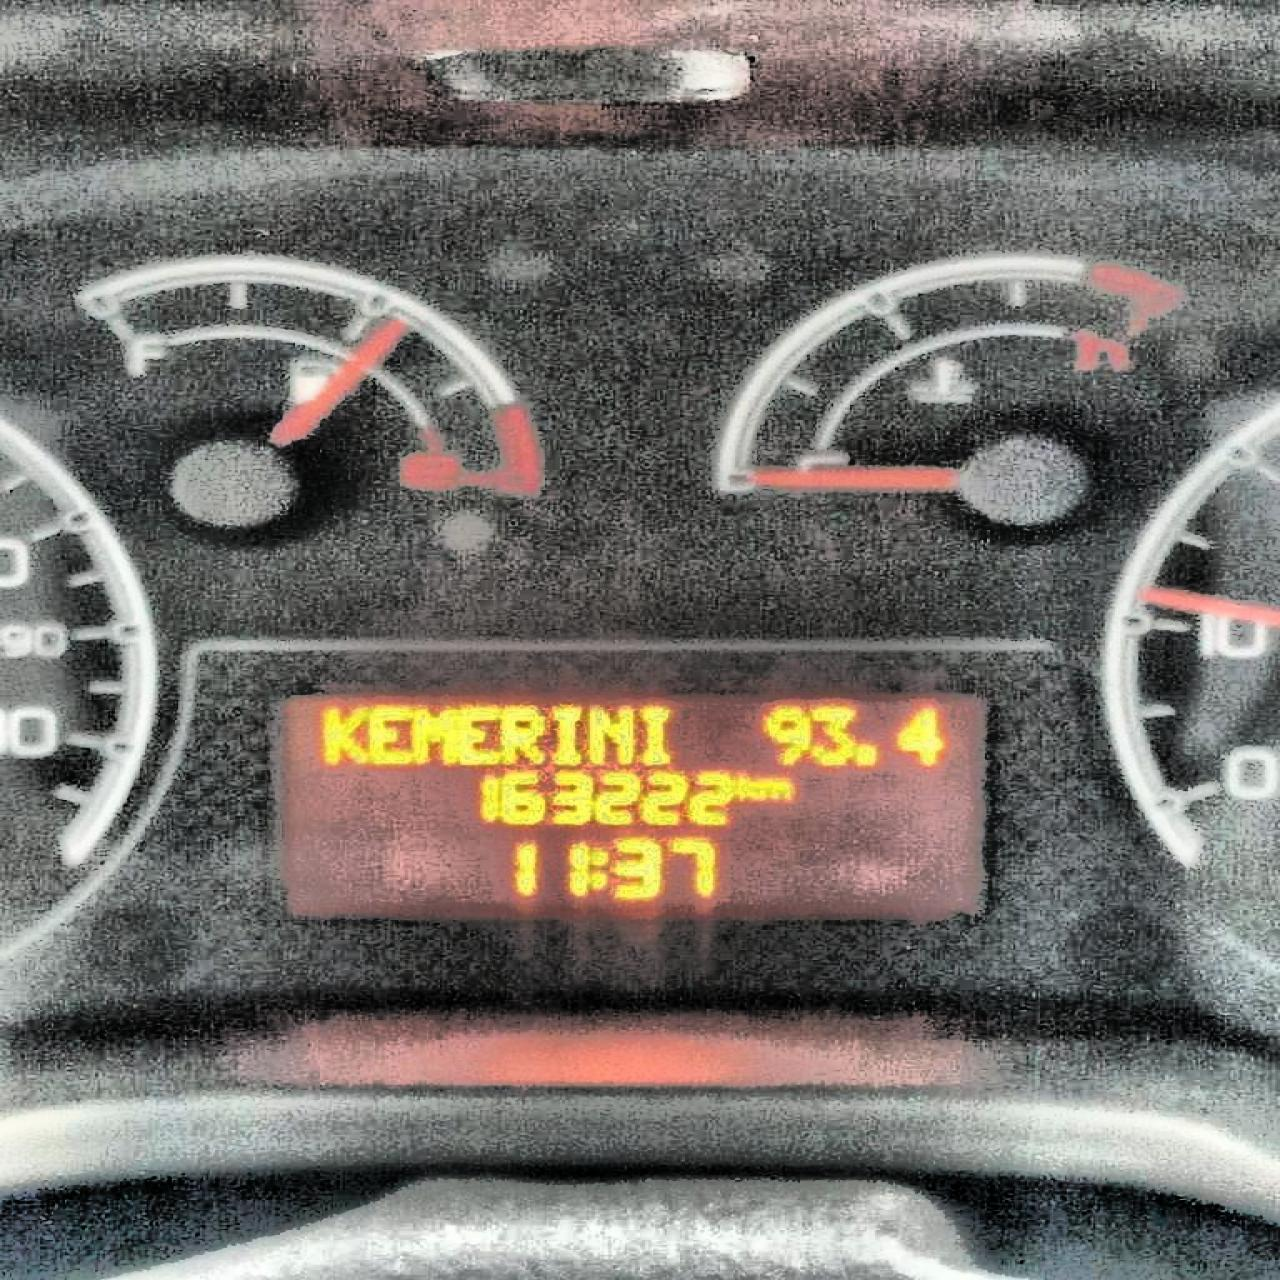-: (855, 740, 878, 769)
1: (506, 837, 540, 898), (560, 839, 585, 900), (475, 772, 497, 825)
2: (592, 769, 639, 826), (687, 770, 734, 828), (640, 769, 685, 826)
3: (608, 833, 663, 903), (809, 702, 855, 768), (549, 770, 592, 826)
4: (888, 701, 948, 769)
6: (498, 769, 545, 826)
7: (663, 835, 719, 900)
9: (758, 703, 809, 768)
X: (585, 702, 636, 767), (316, 702, 366, 768), (410, 703, 459, 768), (363, 703, 410, 768), (502, 703, 546, 767), (461, 703, 502, 768), (549, 703, 584, 767), (639, 703, 672, 767), (755, 776, 797, 803), (587, 845, 608, 890), (735, 772, 757, 802)
odometer: (258, 680, 1005, 926)
